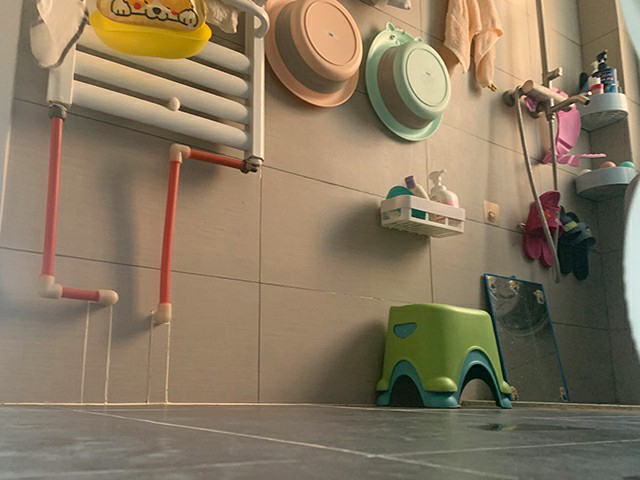stool: (374, 303, 516, 411)
